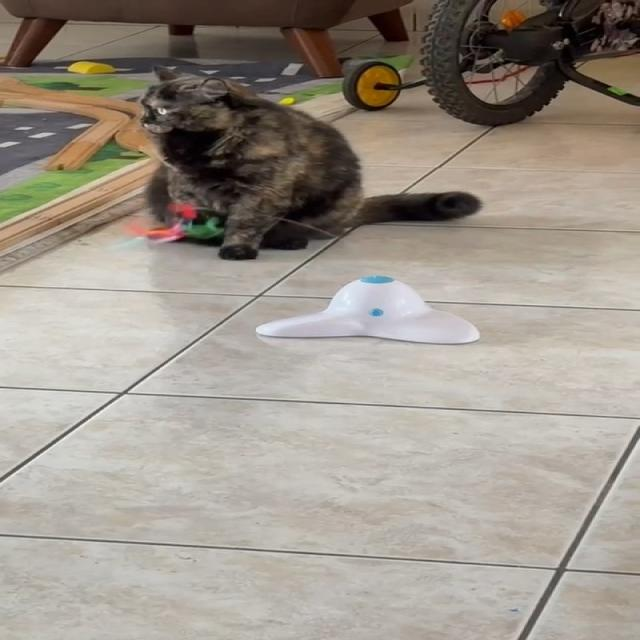authorized: (136, 64, 483, 260)
